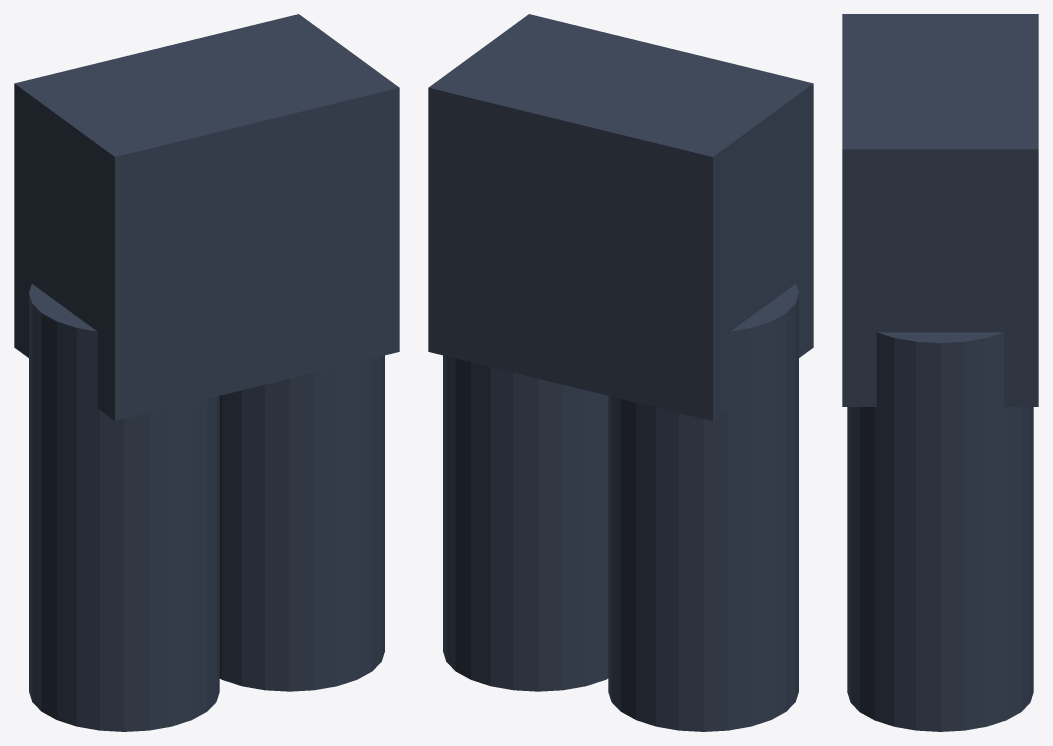
Rendered from pants_01.glb.
3 renders of one model, left to right at view 1: azimuth 30°, elevation 25°; view 2: azimuth 150°, elevation 25°; view 3: azimuth 270°, elevation 25°, orthographic. The views are drawn at different scales.
Parts seen in each view (by area): view 1: world; view 2: world; view 3: world.
Part boxes in pixels (<box>): world: <box>14,14,399,731</box>; world: <box>428,14,813,731</box>; world: <box>842,14,1038,731</box>.
Bounding box in the file's own units: 0.72 × 1.22 × 0.38.
